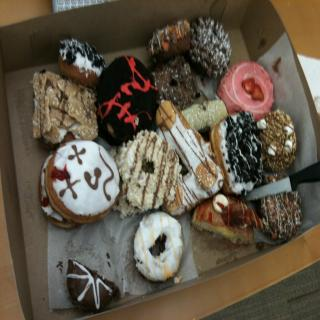Doughnut: (40, 136, 122, 227), (110, 129, 179, 219), (133, 212, 184, 283), (188, 17, 230, 78)
